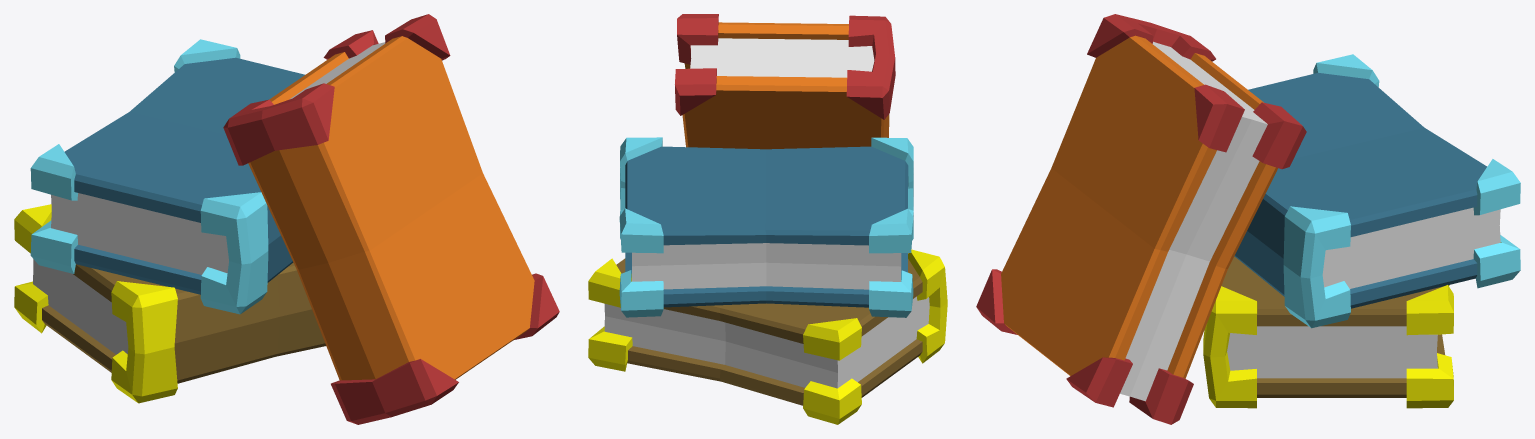
Rendered from books.d41694ab.glb.
3 renders of one model, left to right at view 1: azimuth 30°, elevation 25°; view 2: azimuth 150°, elevation 25°; view 3: azimuth 270°, elevation 25°, orthographic. The views are drawn at different scales.
Parts seen in each view (by area): view 1: Book_Pile; view 2: Book_Pile; view 3: Book_Pile.
Part boxes in pixels (x1=…): Book_Pile: x1=14, y1=14, x2=559, y2=424; Book_Pile: x1=588, y1=14, x2=947, y2=424; Book_Pile: x1=976, y1=14, x2=1520, y2=424.
Bounding box in the file's own units: 129 × 98.55 × 155.
